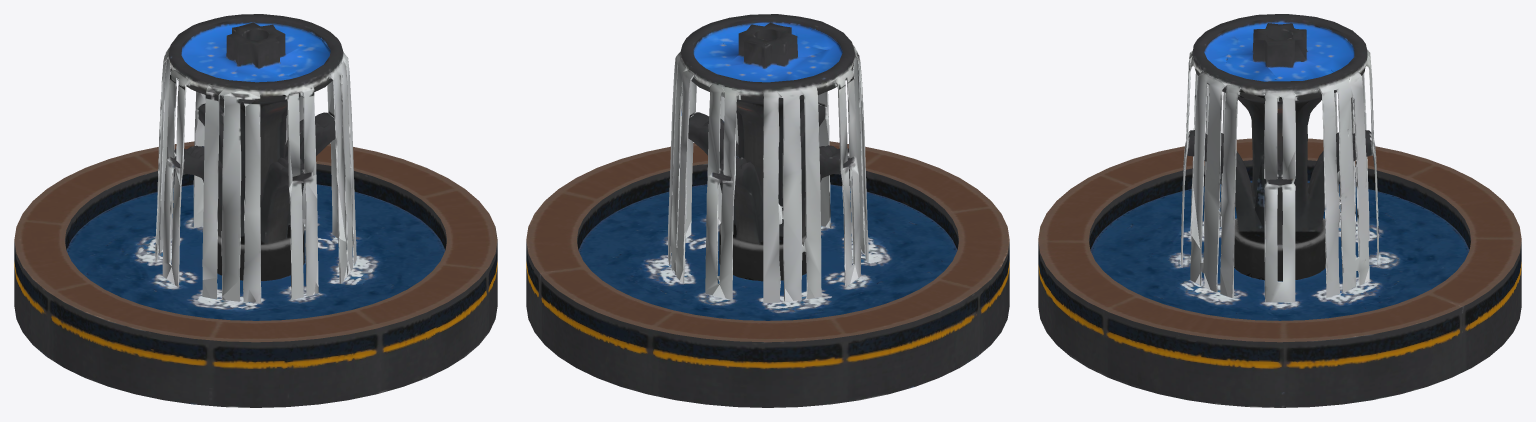
File: fountain.glb
3 renders of one model, left to right at view 1: azimuth 30°, elevation 25°; view 2: azimuth 150°, elevation 25°; view 3: azimuth 270°, elevation 25°, orthographic.
Parts seen in each view (by area): view 1: body, water; view 2: body, water; view 3: body, water.
Part boxes in pixels (x1,y1,x2,y2): body: [14, 14, 497, 407]; water: [66, 23, 445, 320]; body: [526, 14, 1009, 407]; water: [578, 23, 957, 320]; body: [1038, 14, 1521, 407]; water: [1090, 22, 1469, 320].
Bounding box in the file's own units: 3 × 1.86 × 3.
Materials: 2 (2 with a texture image).
